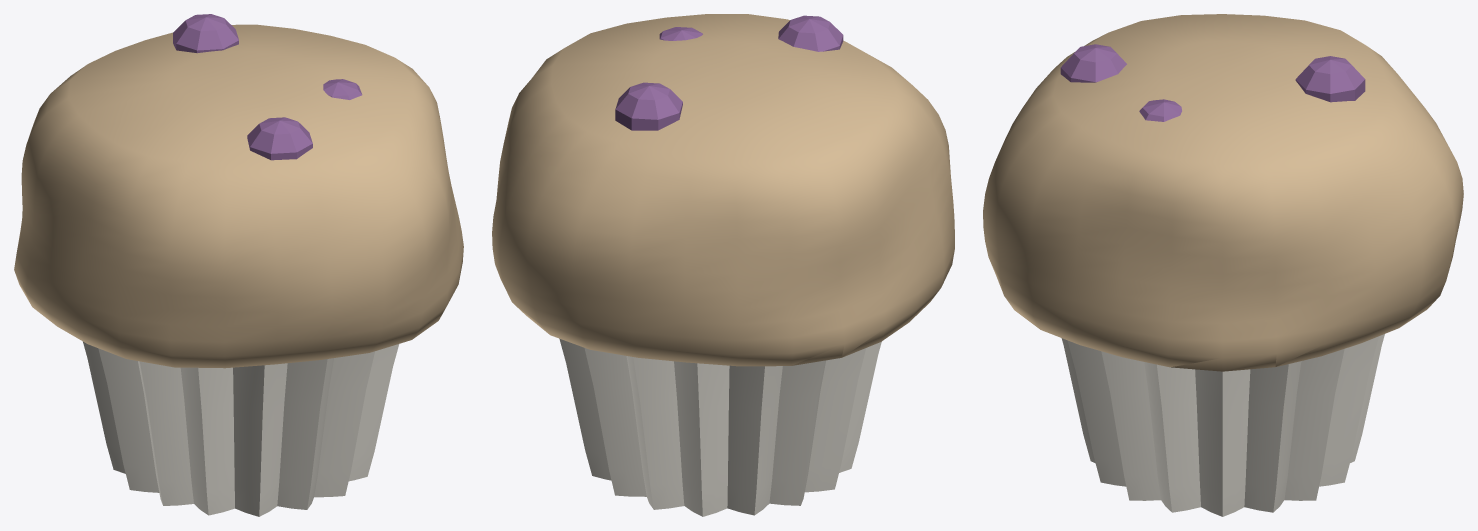
File: fresh-produce-and-groceries-muffin-adcb5c59__24419.glb
3 views of the same model, side by side, from view 1: azimuth 30°, elevation 25°; view 2: azimuth 150°, elevation 25°; view 3: azimuth 270°, elevation 25° (orthographic). The views are drawn at different scales.
Visible parts, largest first — view 1: muffin; view 2: muffin; view 3: muffin.
Boxes of the visible parts, x1,y1,x2,y2 form: muffin: (14, 14, 463, 516); muffin: (492, 14, 954, 516); muffin: (983, 14, 1463, 516).
Size of the model in its own units: 0.0936 by 0.0924 by 0.0982.
